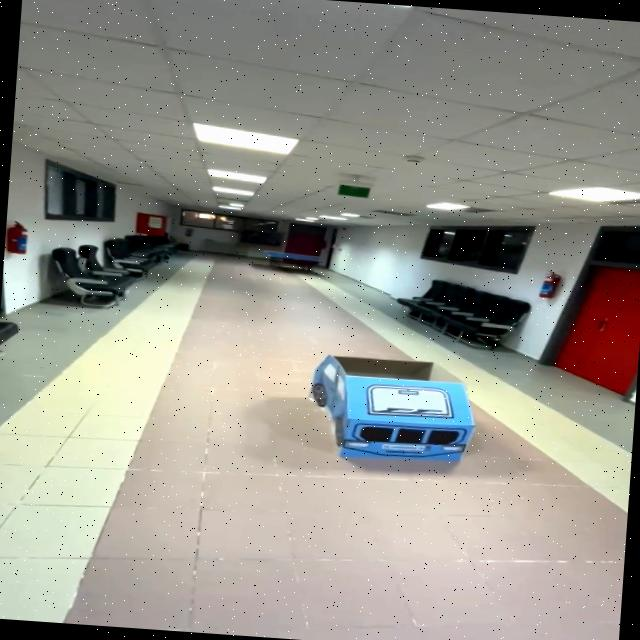blue_car: (257, 338, 505, 484)
